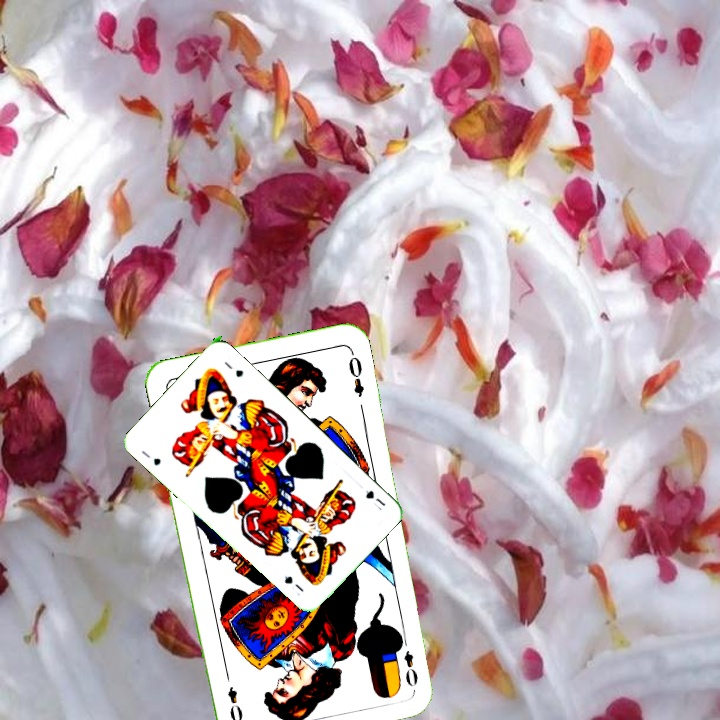EO: (396, 632, 420, 690)
GU: (361, 486, 388, 509), (137, 446, 163, 468)
